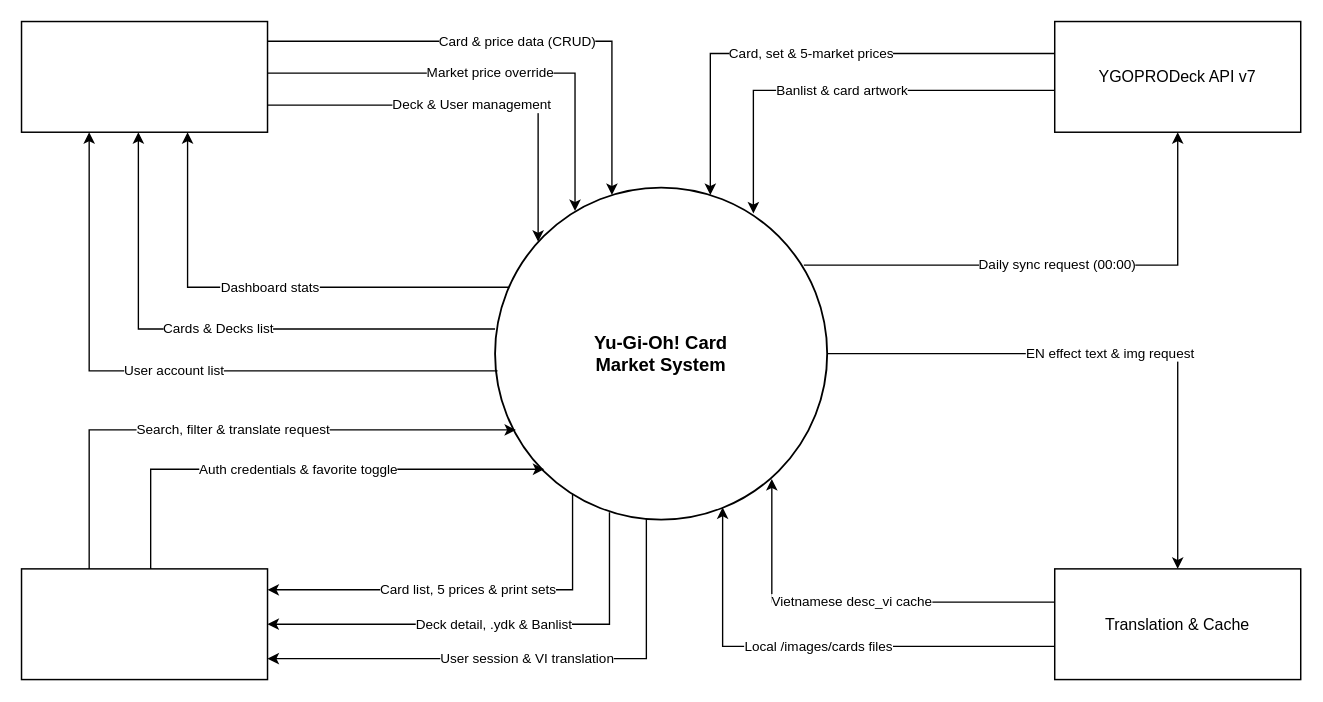
Some shapes in this 1323 by 702 pixel diagram are drawn without their labels. The shapes that lost their labels are listed below. From the top down, each one's centre as x and y in pixels, then its label:
At point 144,76: "Admin".
At point 144,624: "Guest / User".
